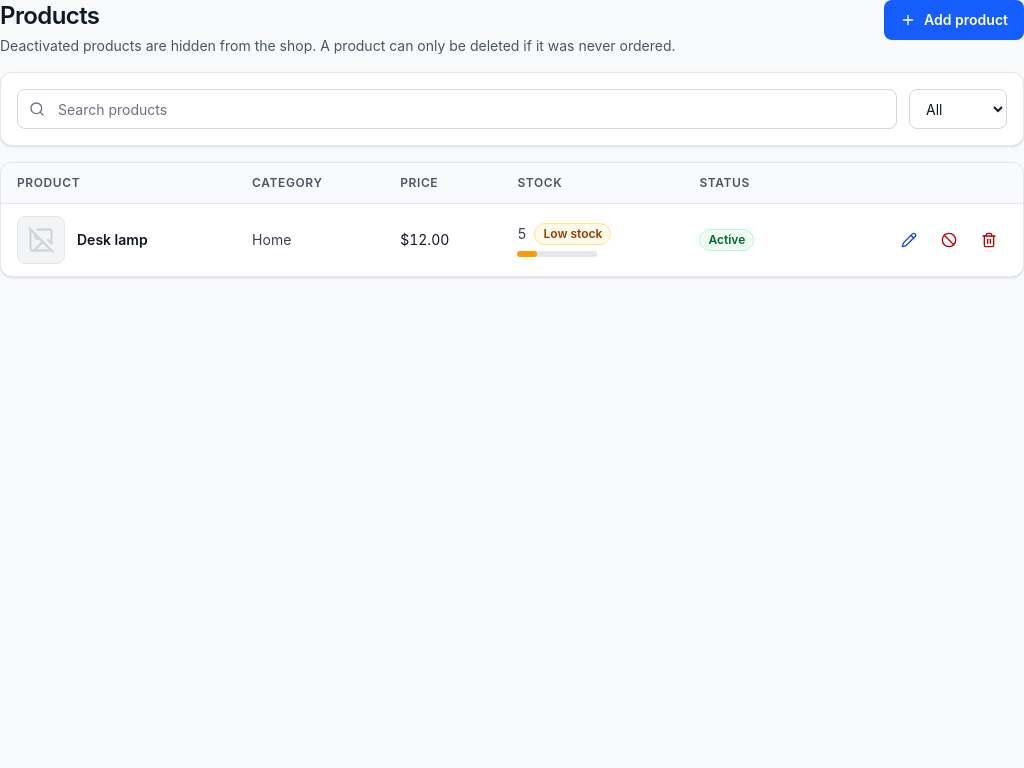
Test: Delete a product › does nothing when cancelled
Click the button named "Delete Desk lamp": (989, 240) [971,222,1007,258]
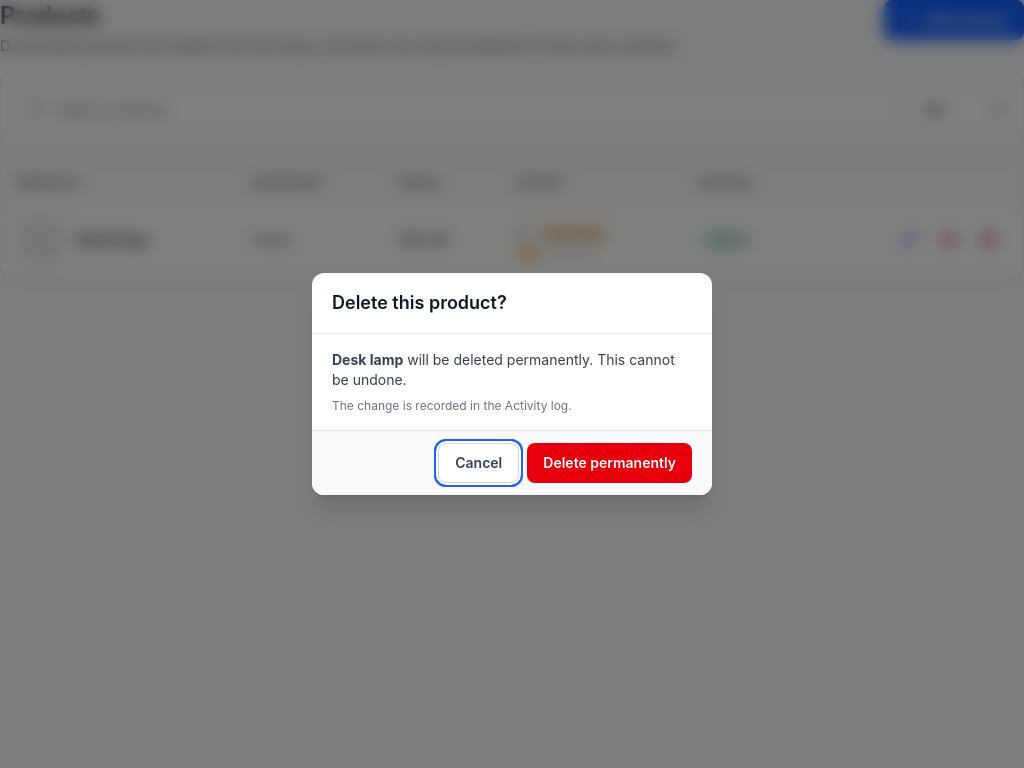
Click the button "Cancel": (479, 463) [438,443,519,483]
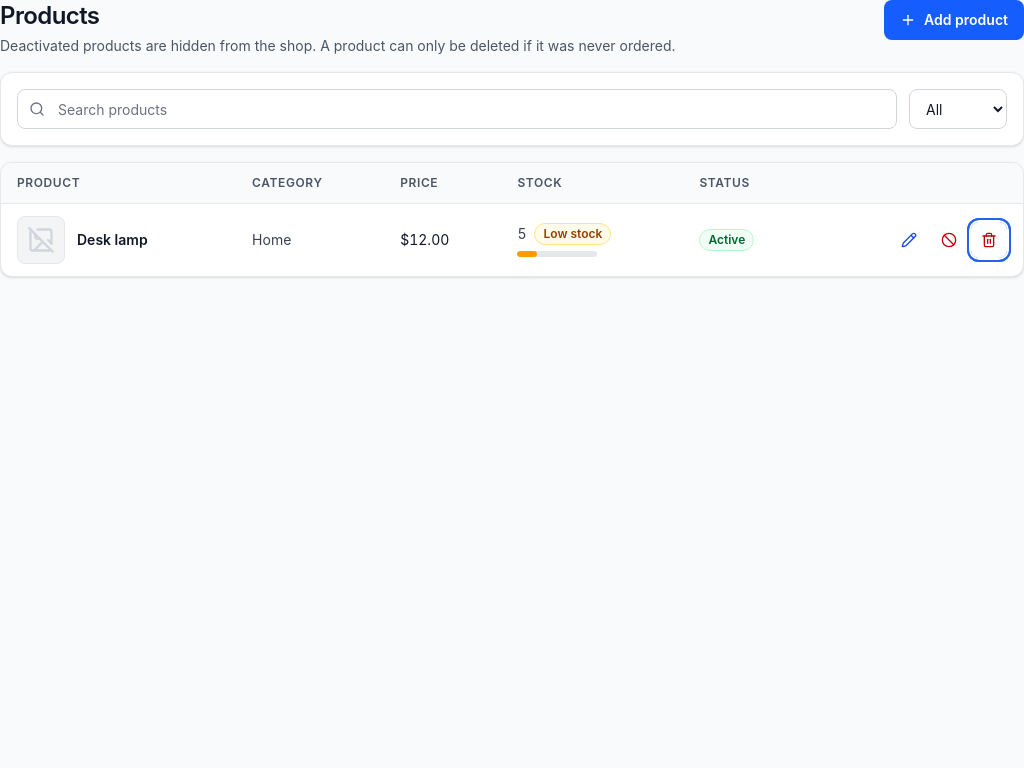
Expected: the dialog is gone
